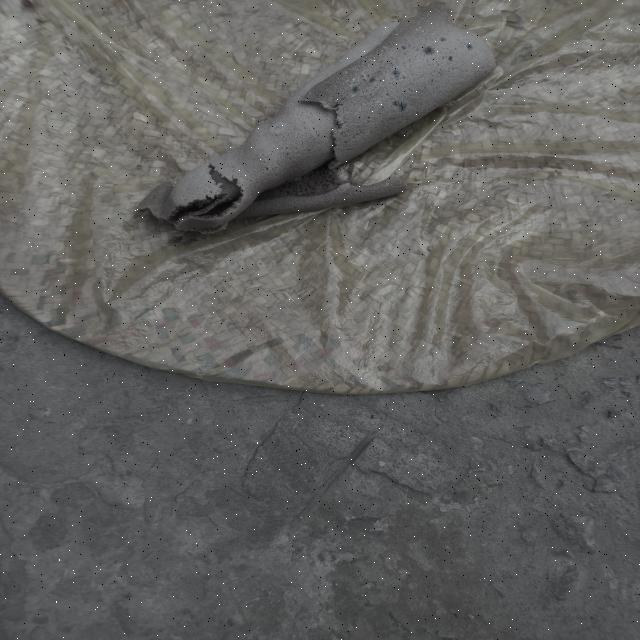injera_mold: (393, 101, 408, 111), (349, 84, 361, 96), (423, 45, 436, 56), (390, 69, 403, 79), (270, 124, 286, 132), (334, 118, 343, 130), (465, 42, 474, 52), (303, 92, 311, 102), (320, 100, 328, 110), (368, 76, 378, 83), (416, 25, 424, 33), (439, 36, 447, 43), (350, 76, 358, 82), (447, 55, 453, 62), (169, 183, 178, 187), (375, 101, 382, 106), (342, 70, 349, 75), (369, 58, 374, 63), (353, 66, 359, 70), (326, 168, 332, 172), (294, 178, 300, 181), (337, 76, 341, 80), (383, 46, 388, 49), (360, 58, 366, 60), (386, 182, 389, 186), (421, 17, 424, 20), (396, 33, 398, 36)
